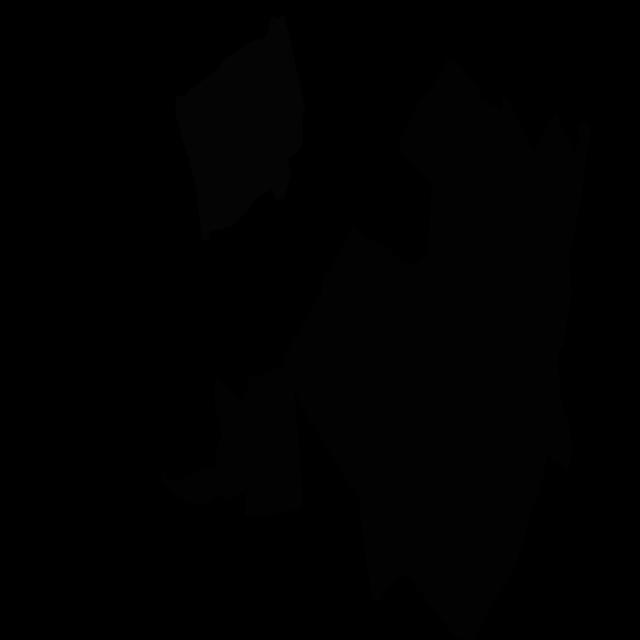cardboard: (282, 58, 591, 640), (160, 377, 271, 504), (243, 365, 303, 518)
soft_plastic: (175, 13, 305, 241)
